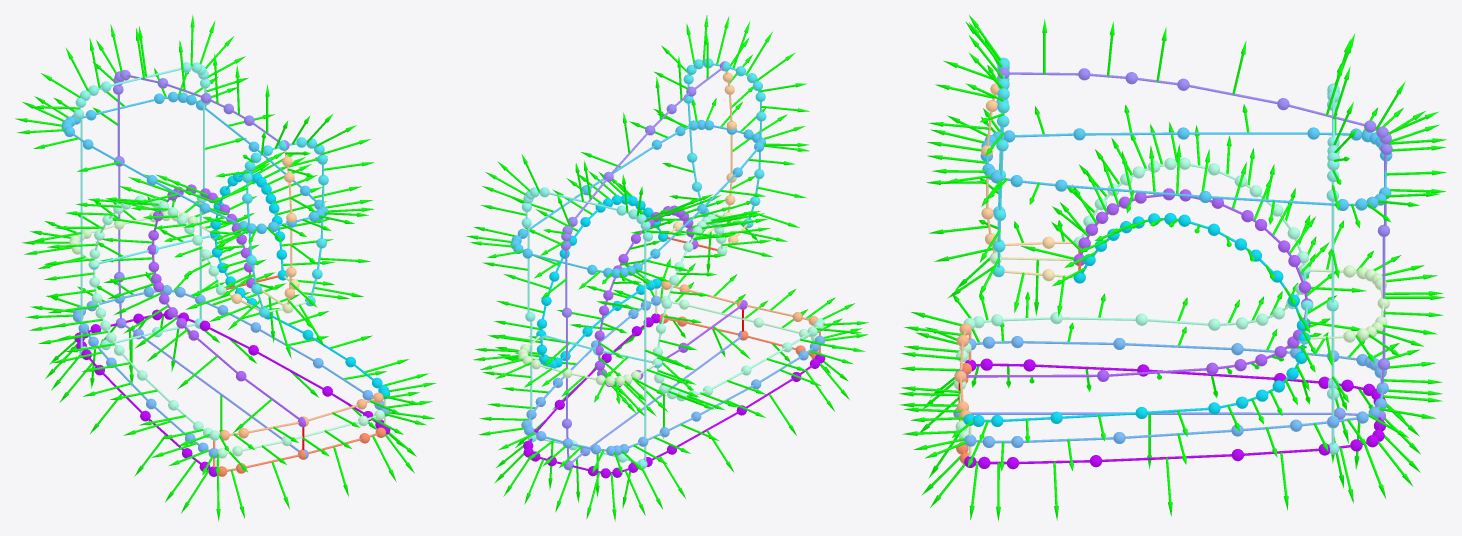
Rendered from t2f_sewing_machine.gltf.
The picture shows the model from 3 angles, left to right: view 1: azimuth 30°, elevation 25°; view 2: azimuth 150°, elevation 25°; view 3: azimuth 270°, elevation 25°; orthographic projection. The views are drawn at different scales.
Bounding box in the file's own units: 0.5831 × 0.8078 × 0.8883.
